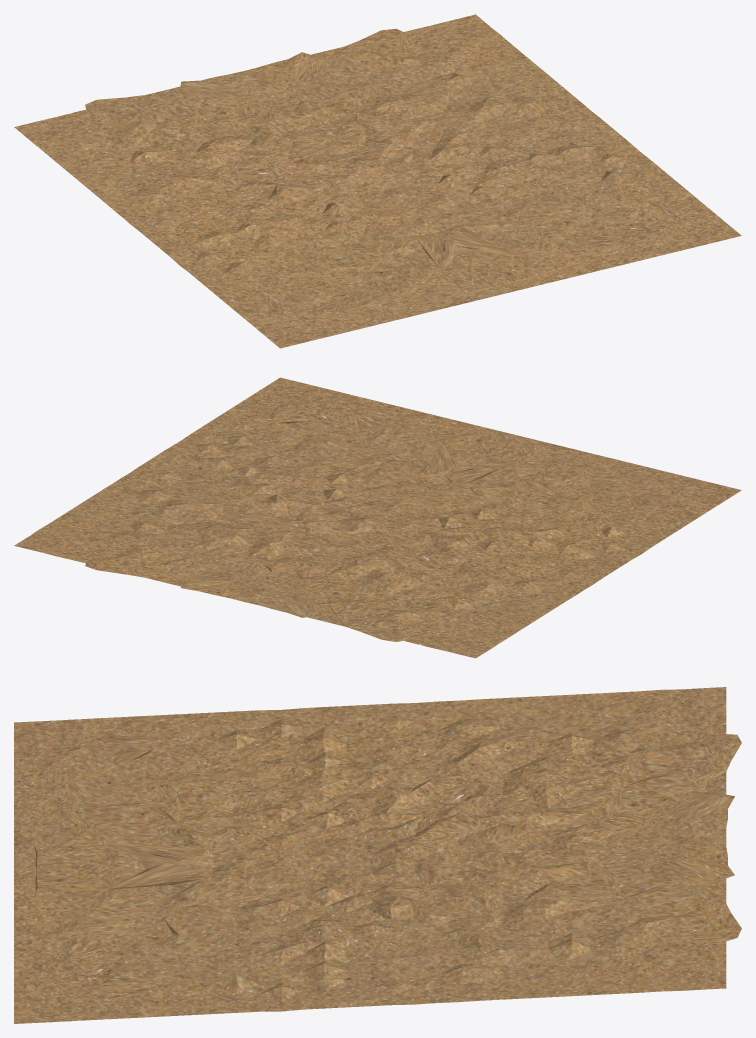
File: map2.dae
The picture shows the model from 3 angles, top to bottom: view 1: azimuth 30°, elevation 25°; view 2: azimuth 150°, elevation 25°; view 3: azimuth 270°, elevation 25°; orthographic projection. The views are drawn at different scales.
Parts seen in each view (by area): view 1: Plane; view 2: Plane; view 3: Plane.
Boxes of the visible parts, x1,y1,x2,y2 form: Plane: [14, 14, 741, 348]; Plane: [14, 377, 741, 658]; Plane: [14, 687, 741, 1023].
Bounding box in the file's own units: 100 × 102 × 5.81.
Materials: 1 (1 with a texture image).
